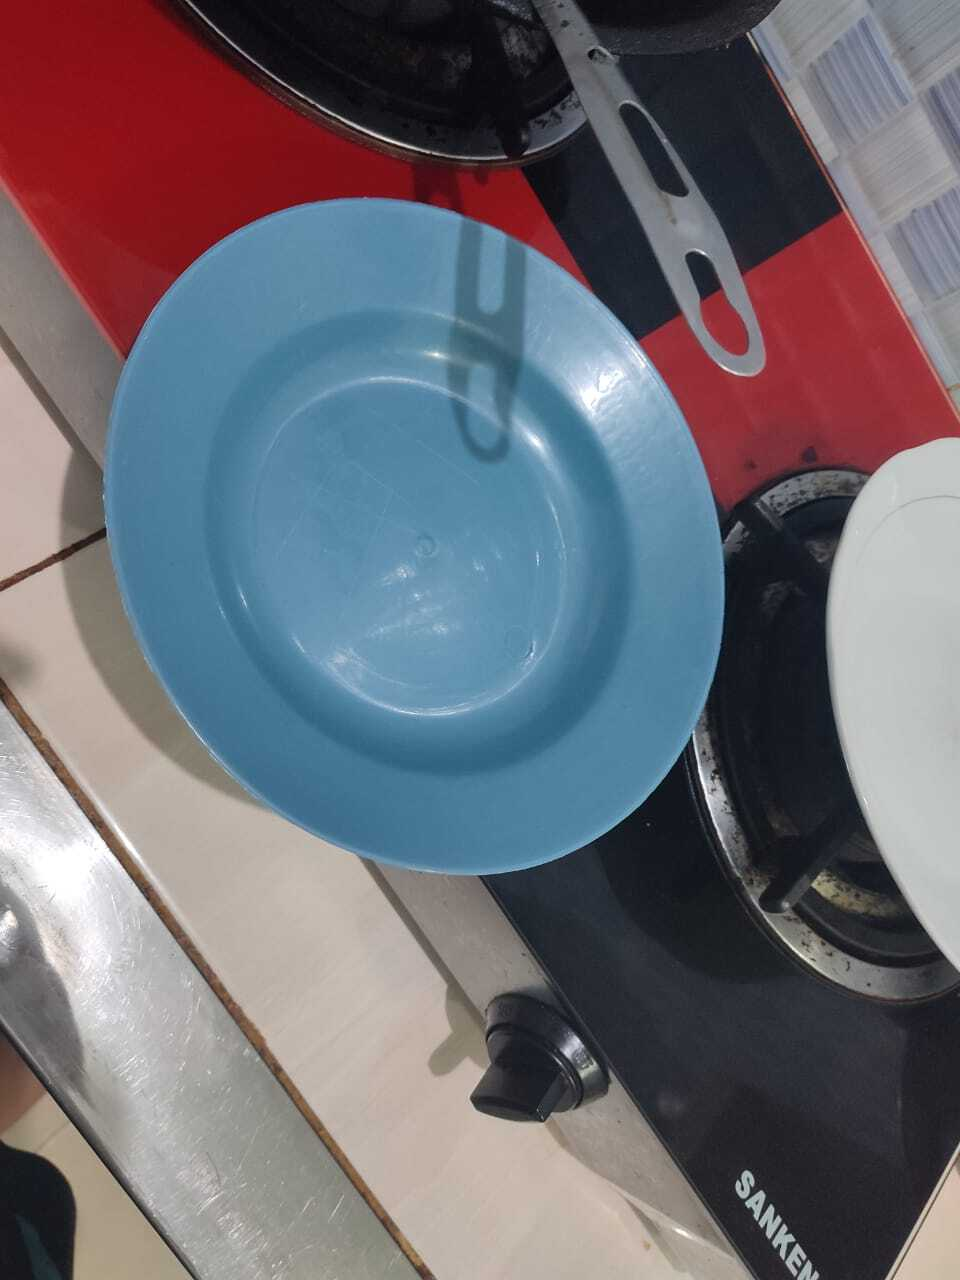piring: (102, 191, 723, 867)
